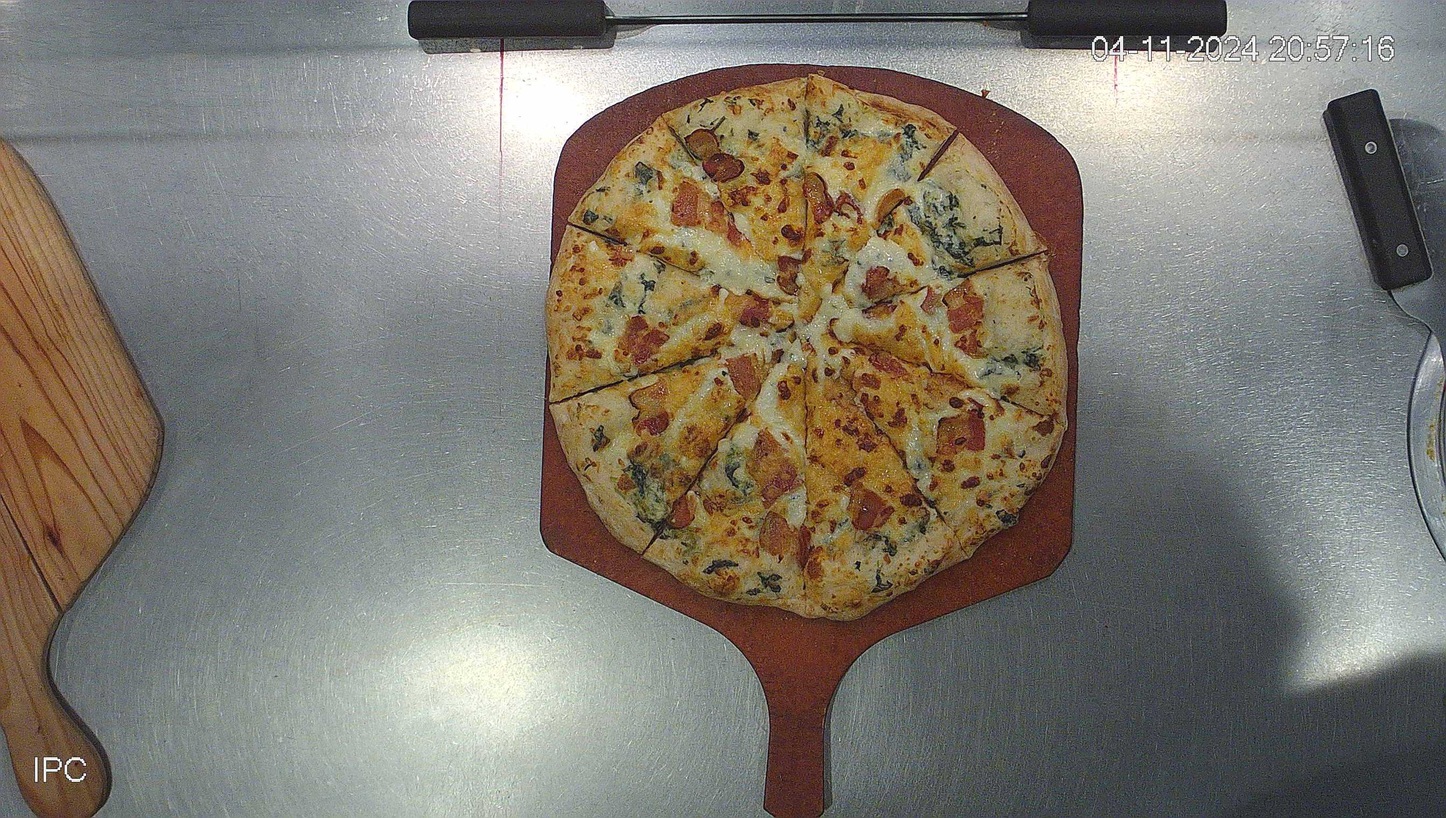pepporoni: (539, 77, 1064, 620)
